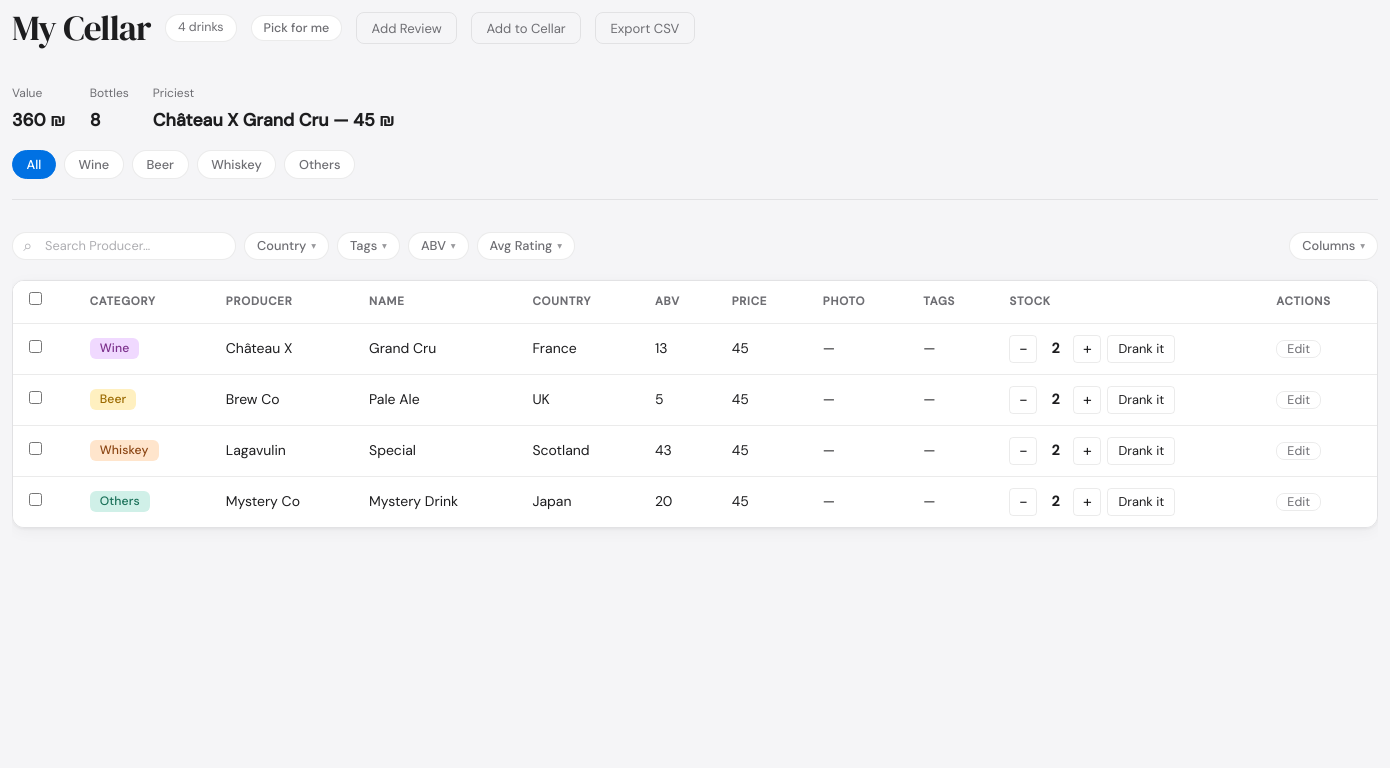
it: clicking Wine tab shows only wine entries and marks it active
This screenshot has width=1390, height=768.
Check: the text "Grand Cru" is shown, box [353,323,516,374]
Click the button "Wine": (94, 164) [64,150,124,179]
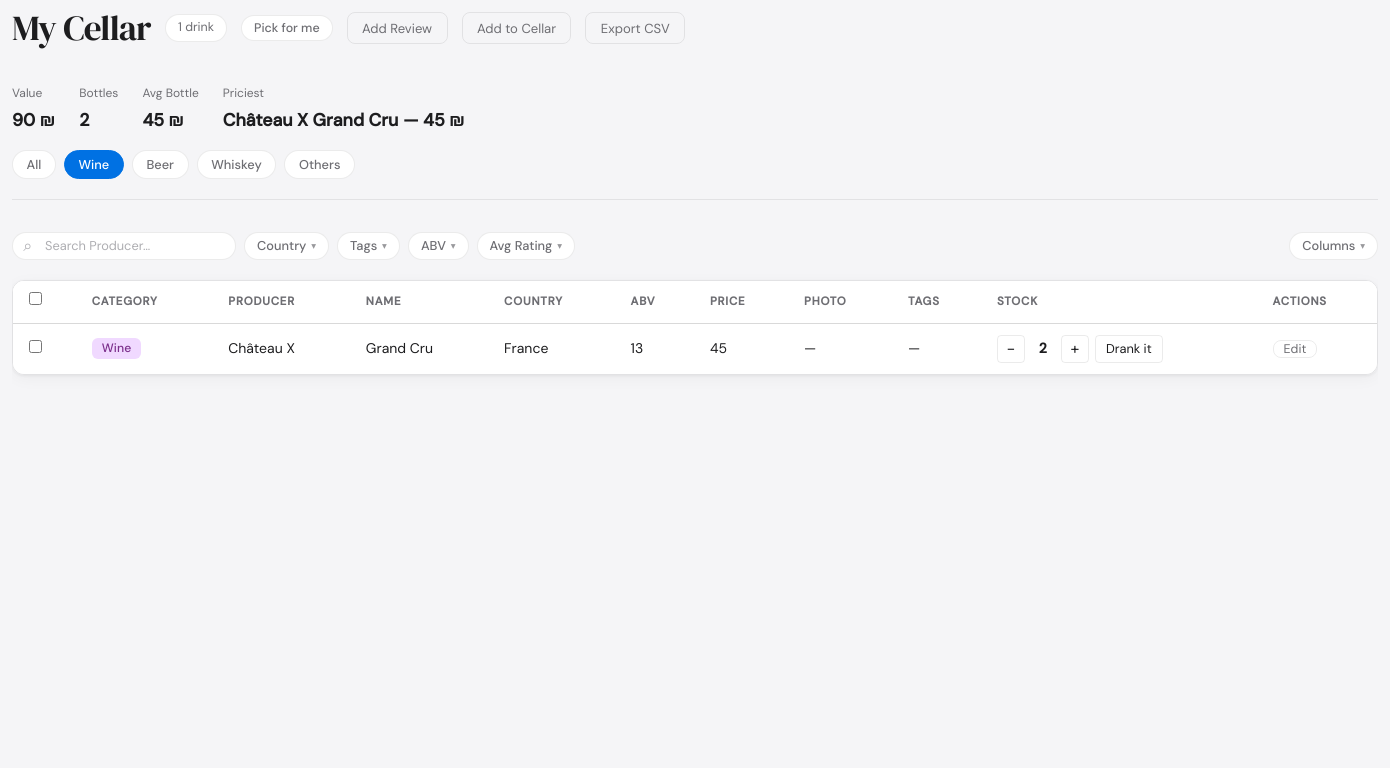
Check: the text "Pale Ale" is gone
Check: the text "Special" is gone
Check: the text "Mystery Drink" is gone
